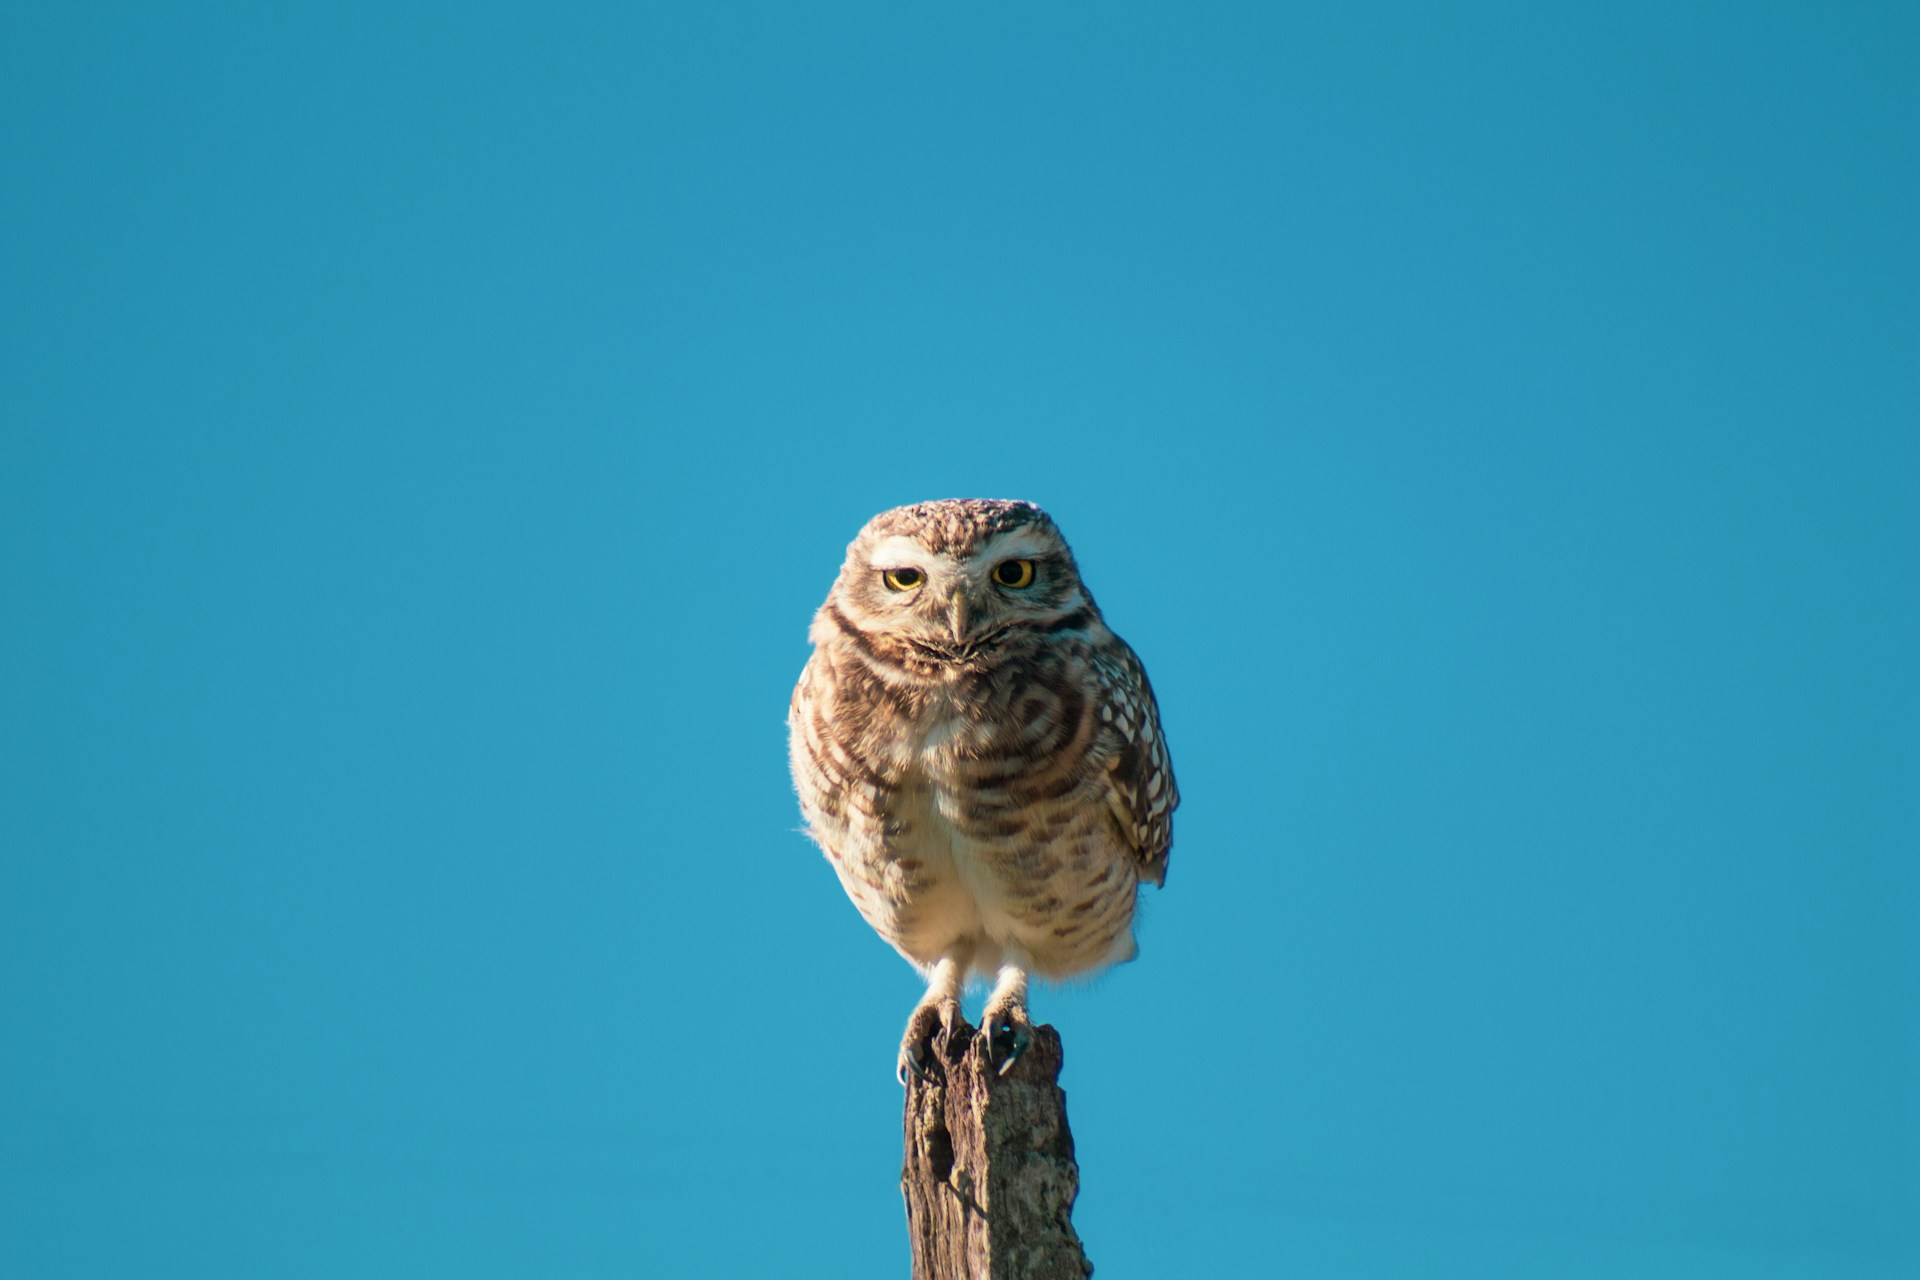owl: (770, 487, 1193, 1091)
